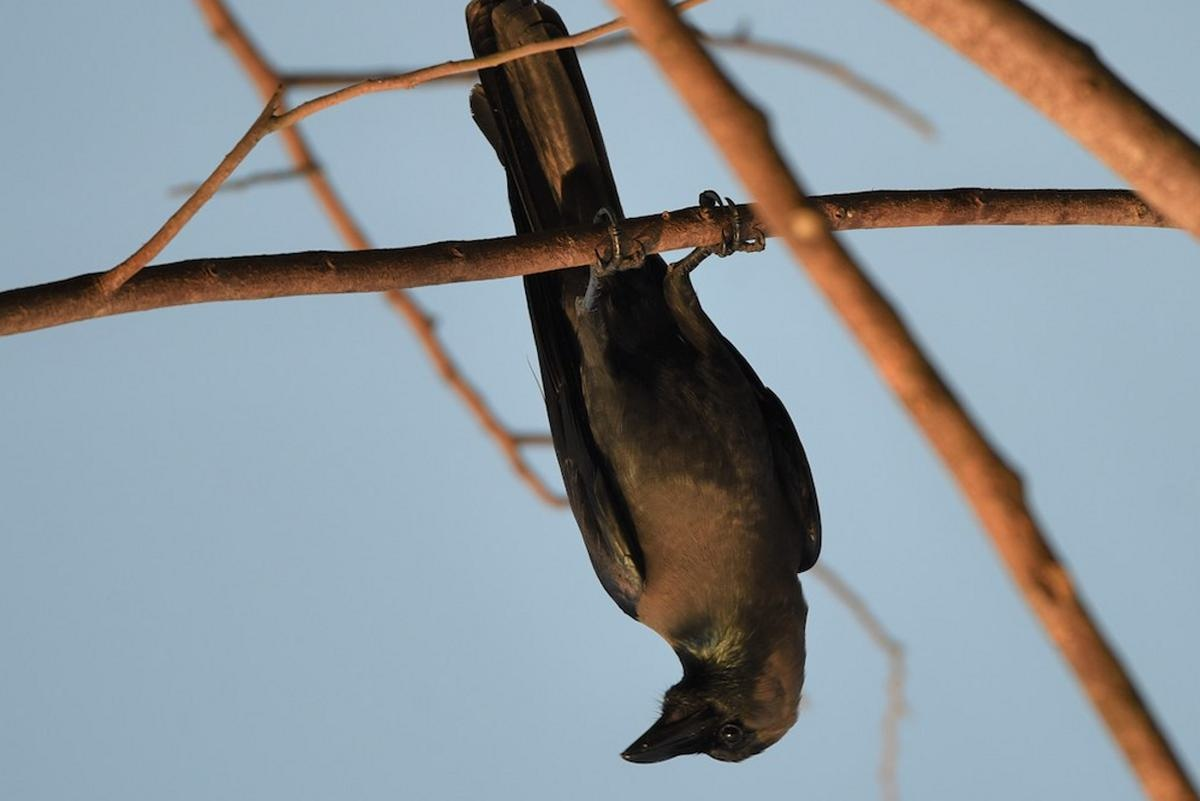crow: (444, 9, 834, 772)
